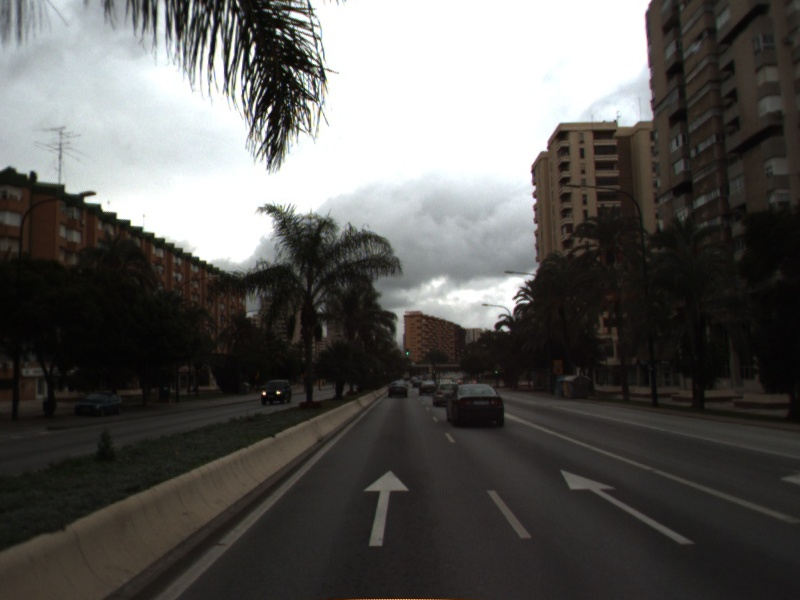STRAIGHT: (558, 468, 697, 546), (360, 468, 412, 548)
